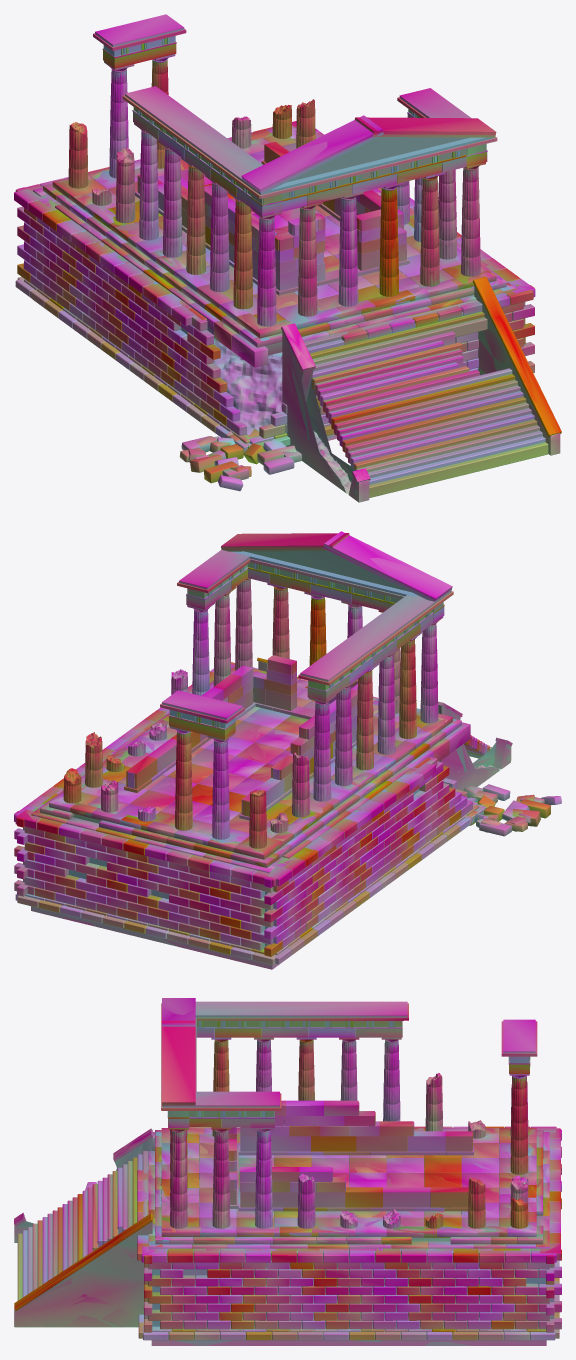
File: podium_temple.glb
The picture shows the model from 3 angles, top to bottom: view 1: azimuth 30°, elevation 25°; view 2: azimuth 150°, elevation 25°; view 3: azimuth 270°, elevation 25°; orthographic projection. The views are drawn at different scales.
Visible parts, largest first — view 1: PodiumTemple, PodiumTemple_lod; view 2: PodiumTemple, PodiumTemple_lod; view 3: PodiumTemple, PodiumTemple_lod.
Boxes of the visible parts, x1,y1,x2,y2 form: PodiumTemple: (14,14,561,502); PodiumTemple_lod: (14,29,561,499); PodiumTemple: (14,533,561,965); PodiumTemple_lod: (14,531,561,969); PodiumTemple: (14,998,561,1345); PodiumTemple_lod: (14,1001,561,1345).
Bounding box in the file's own units: 39.74 × 32.14 × 60.22.
